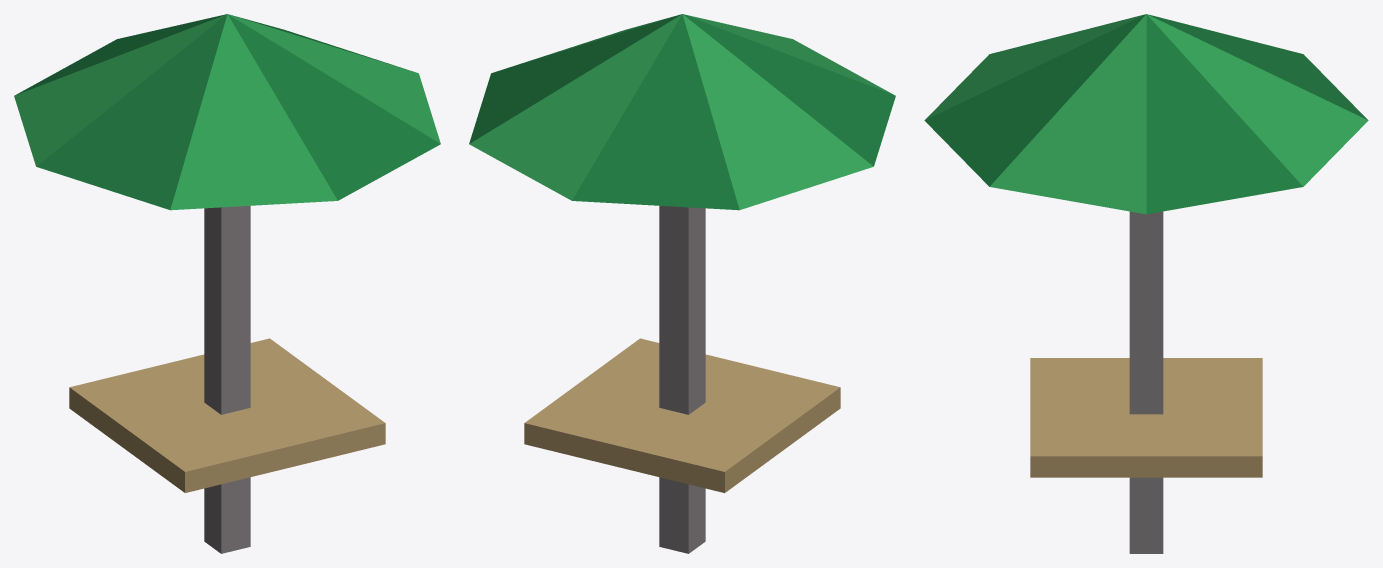
Rendered from CafeParasol.obj.
3 views of the same model, side by side, from view 1: azimuth 30°, elevation 25°; view 2: azimuth 150°, elevation 25°; view 3: azimuth 270°, elevation 25° (orthographic).
Parts seen in each view (by area): view 1: CafeParasol; view 2: CafeParasol; view 3: CafeParasol.
Part boxes in pixels (x1=…): CafeParasol: x1=14, y1=14, x2=440, y2=553; CafeParasol: x1=469, y1=14, x2=895, y2=553; CafeParasol: x1=924, y1=14, x2=1368, y2=553.
Bounding box in the file's own units: 0.34 × 0.45 × 0.34.
